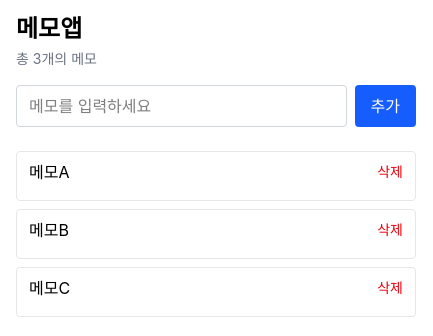
Test case: App 메모 인라인 수정 › App should keep the edited memo in the same list position after saving
Double-click the text "메모B": (49, 230) top-left (29, 218), bottom-right (69, 242)
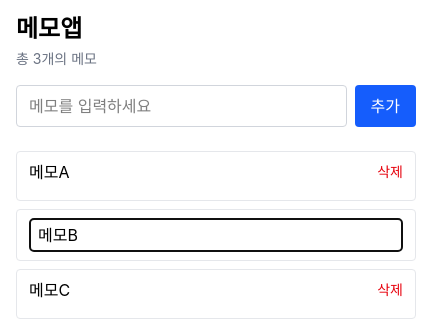
Replace the text in the field showing "메모B" with "고친 B": (216, 235) top-left (29, 218), bottom-right (403, 252)
Then press Enter
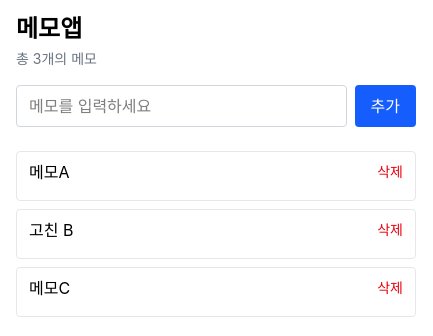
Expected: the list item "메모A 삭제" is shown, top-left (16, 151), bottom-right (416, 201)
Expected: the list item "고친 B 삭제" is shown, top-left (16, 209), bottom-right (416, 259)
